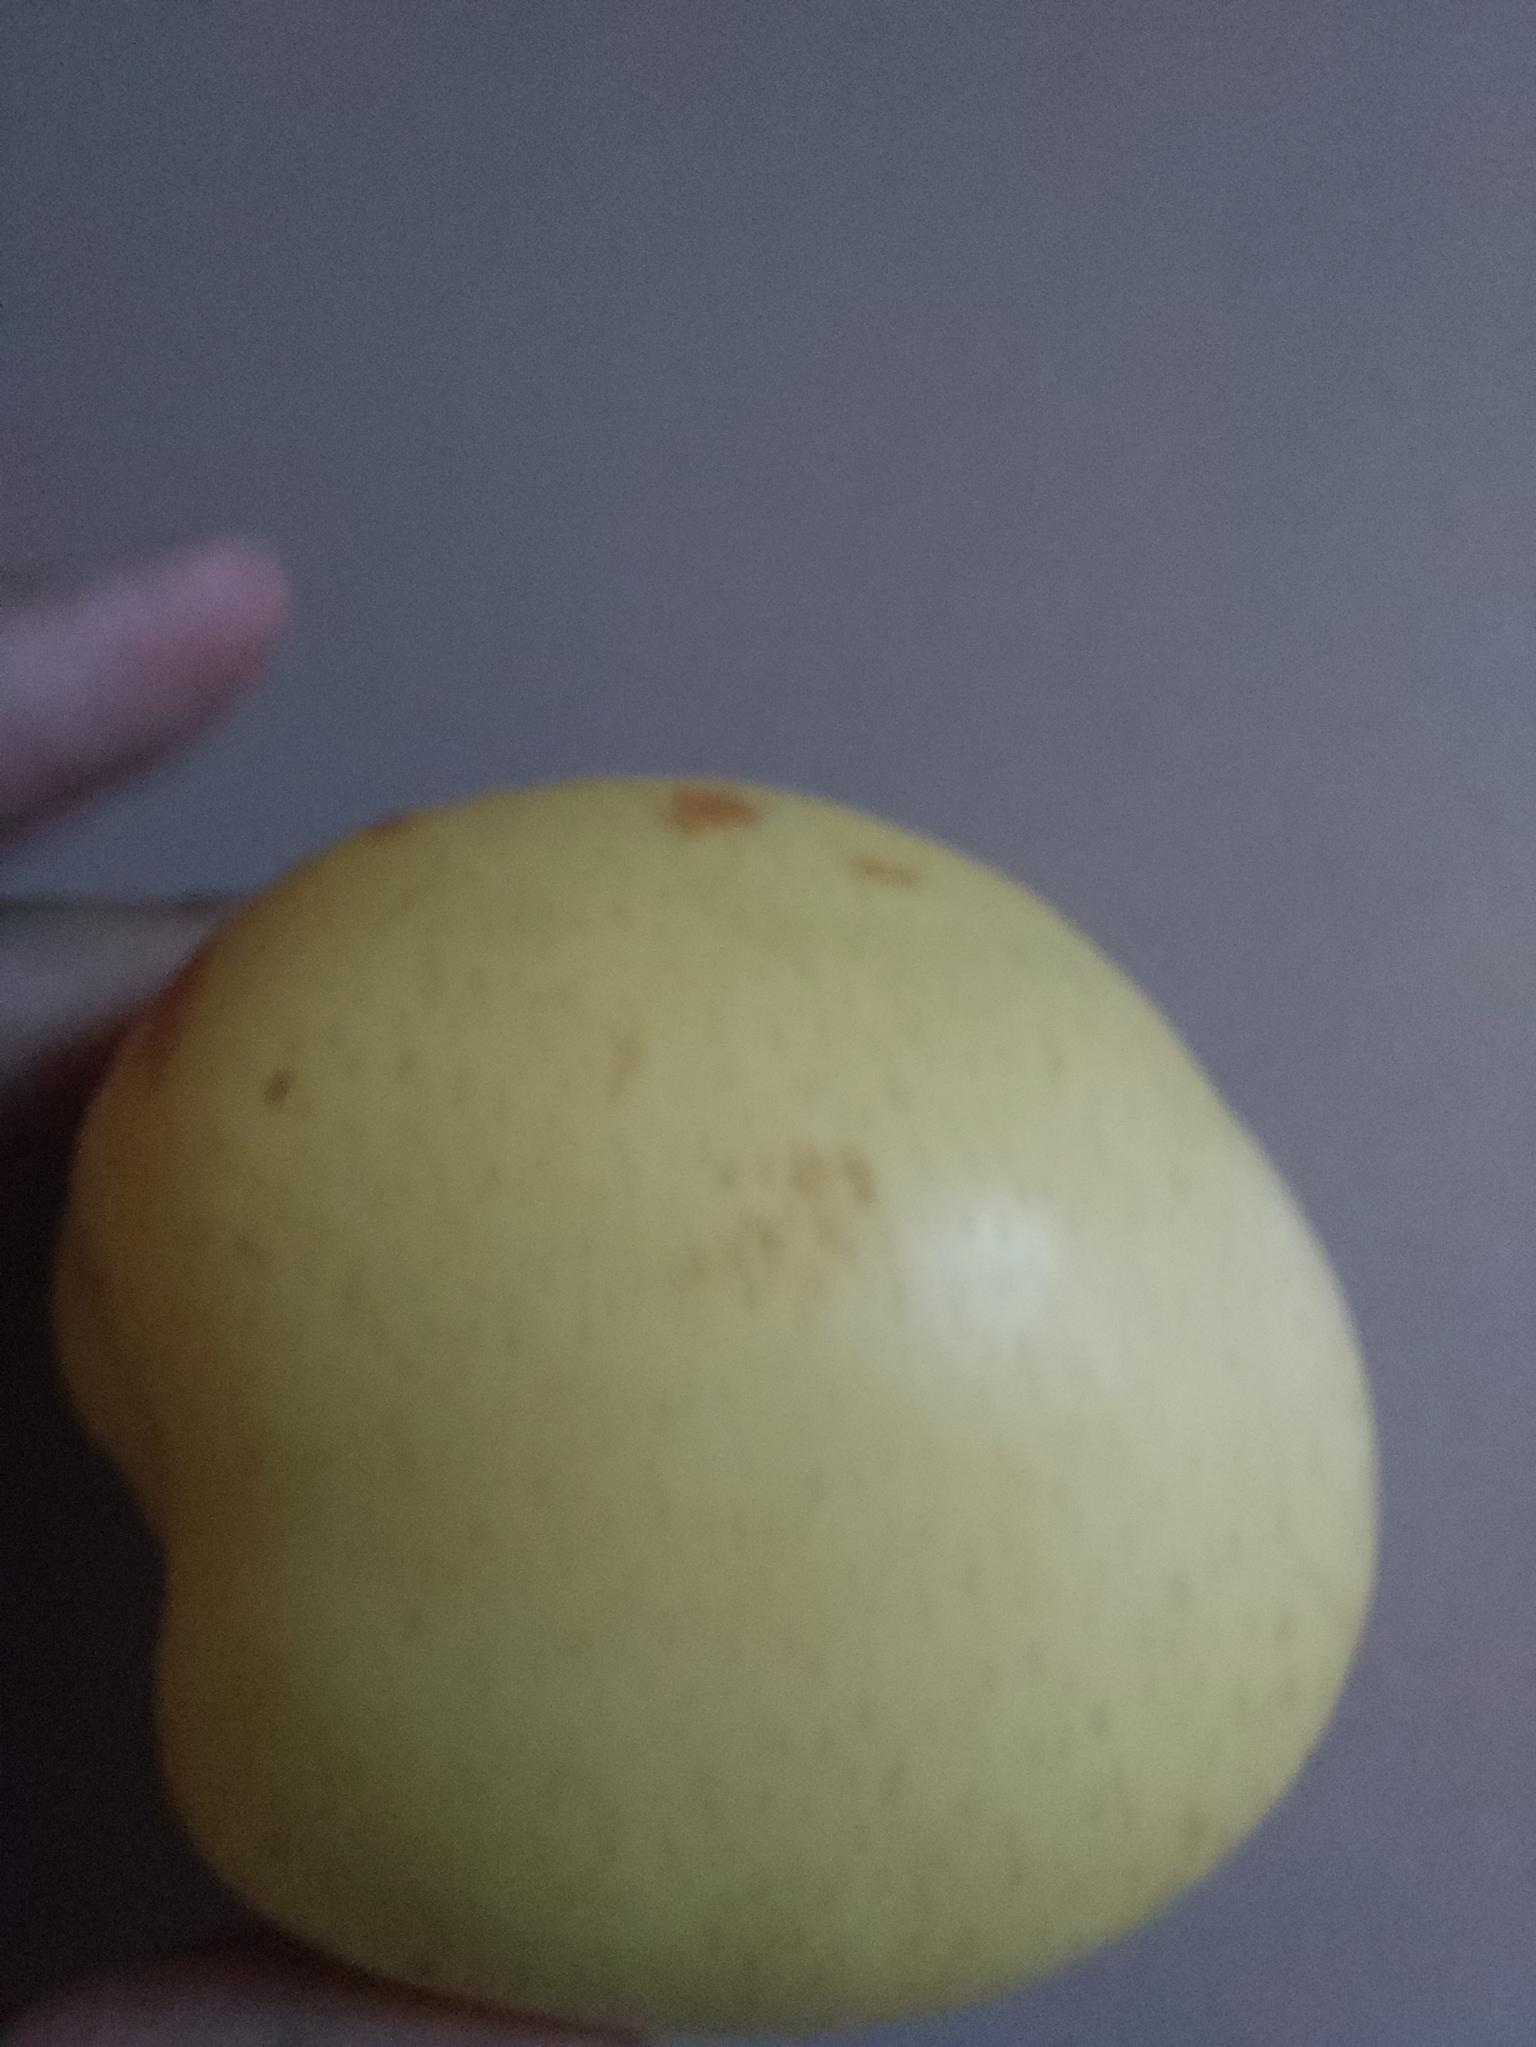Good Pear: (274, 824, 1465, 2021)
